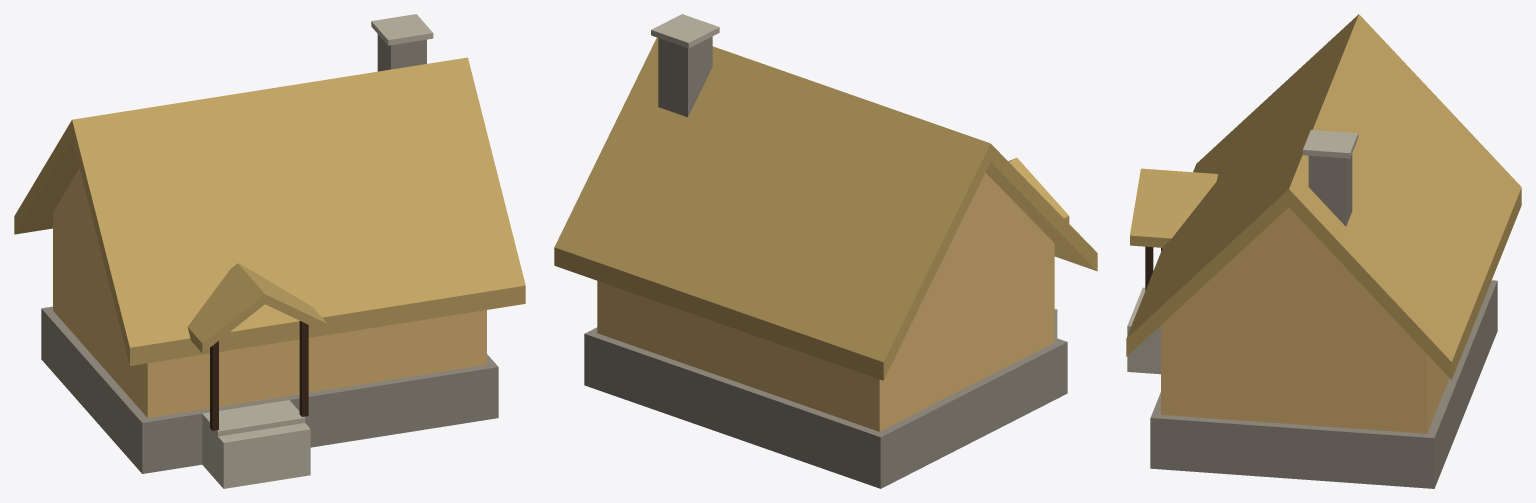
Rendered from SM_WillowPond_House3.fbx.
3 views of the same model, side by side, from view 1: azimuth 30°, elevation 25°; view 2: azimuth 150°, elevation 25°; view 3: azimuth 270°, elevation 25° (orthographic).
Visible parts, largest first — view 1: SM_WillowPond_House3; view 2: SM_WillowPond_House3; view 3: SM_WillowPond_House3.
Boxes of the visible parts, x1,y1,x2,y2 form: SM_WillowPond_House3: (14,14,525,488); SM_WillowPond_House3: (554,14,1097,488); SM_WillowPond_House3: (1126,14,1521,488).
Bounding box in the file's own units: 9.38 × 7.16 × 7.91.
